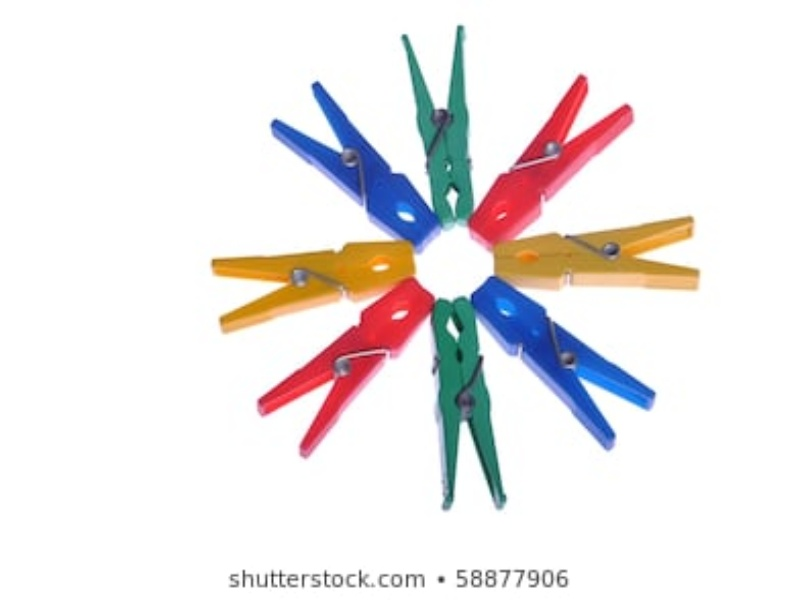plastic-peg: (253, 276, 437, 459), (468, 280, 656, 451), (265, 79, 450, 252), (470, 71, 639, 239), (210, 239, 422, 332), (472, 212, 715, 290), (396, 22, 489, 222), (430, 293, 509, 513)
